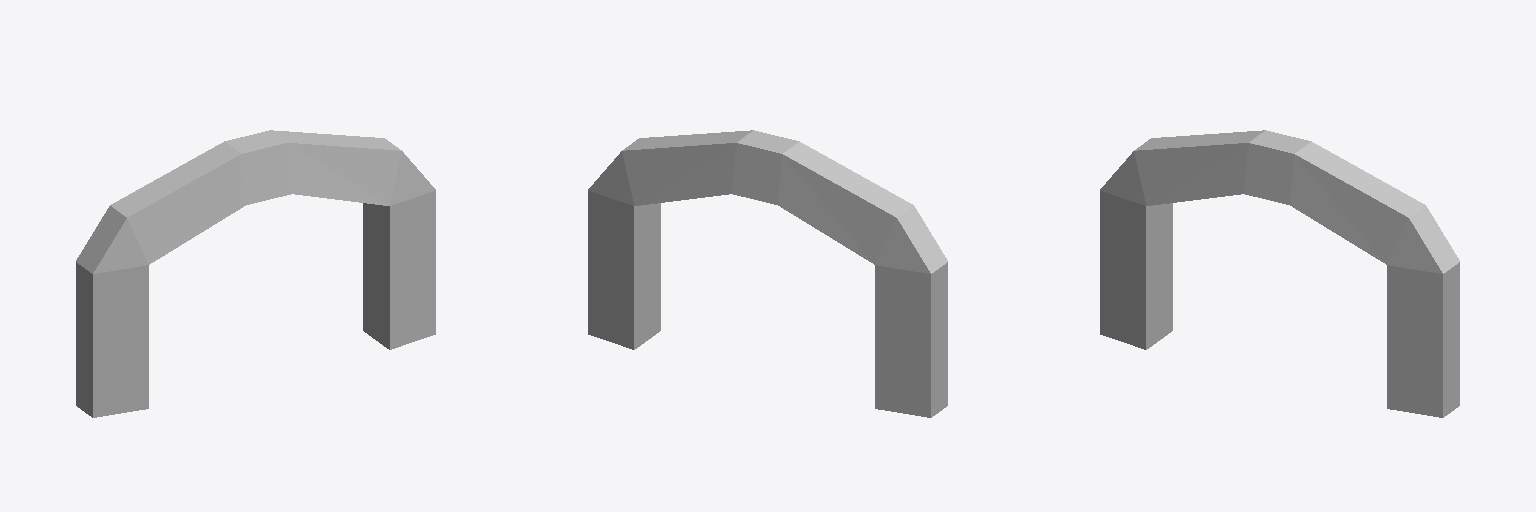
Rendered from gate.obj.
3 renders of one model, left to right at view 1: azimuth 30°, elevation 25°; view 2: azimuth 150°, elevation 25°; view 3: azimuth 330°, elevation 25°, orthographic.
Parts seen in each view (by area): view 1: Cube; view 2: Cube; view 3: Cube.
Boxes of the visible parts, x1,y1,x2,y2 form: Cube: [76, 130, 435, 417]; Cube: [588, 130, 947, 417]; Cube: [1100, 130, 1459, 417].
Bounding box in the file's own units: 15 × 9.5 × 2.